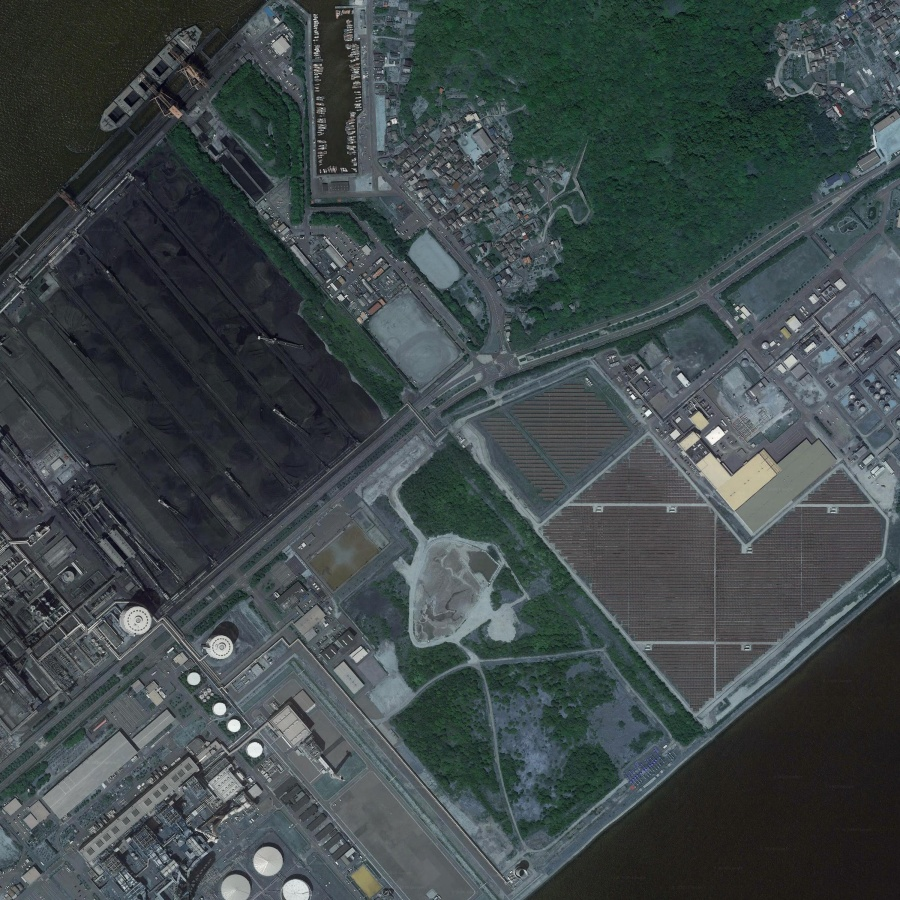PowerPlant: (10, 153, 397, 547)
